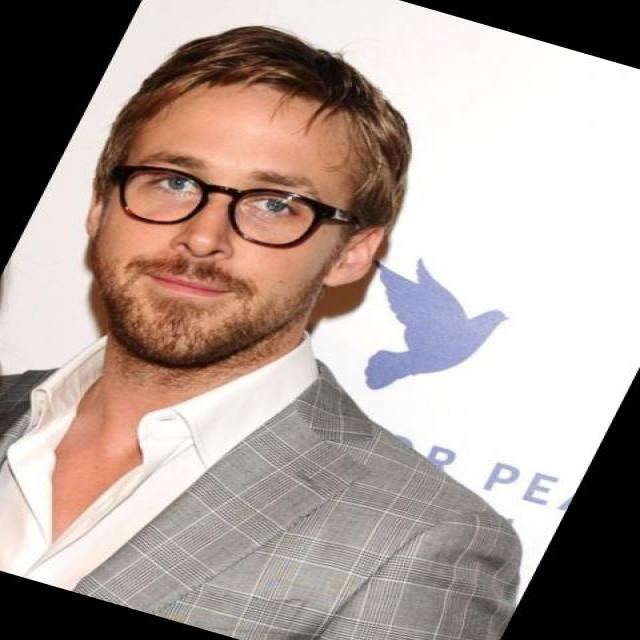glasses: (93, 144, 355, 274)
